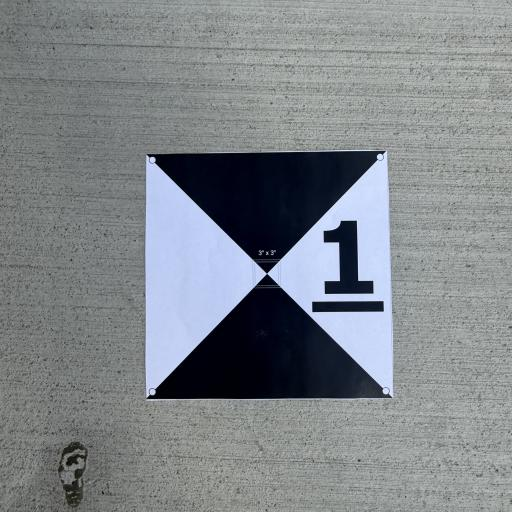target1: (140, 147, 398, 405)
